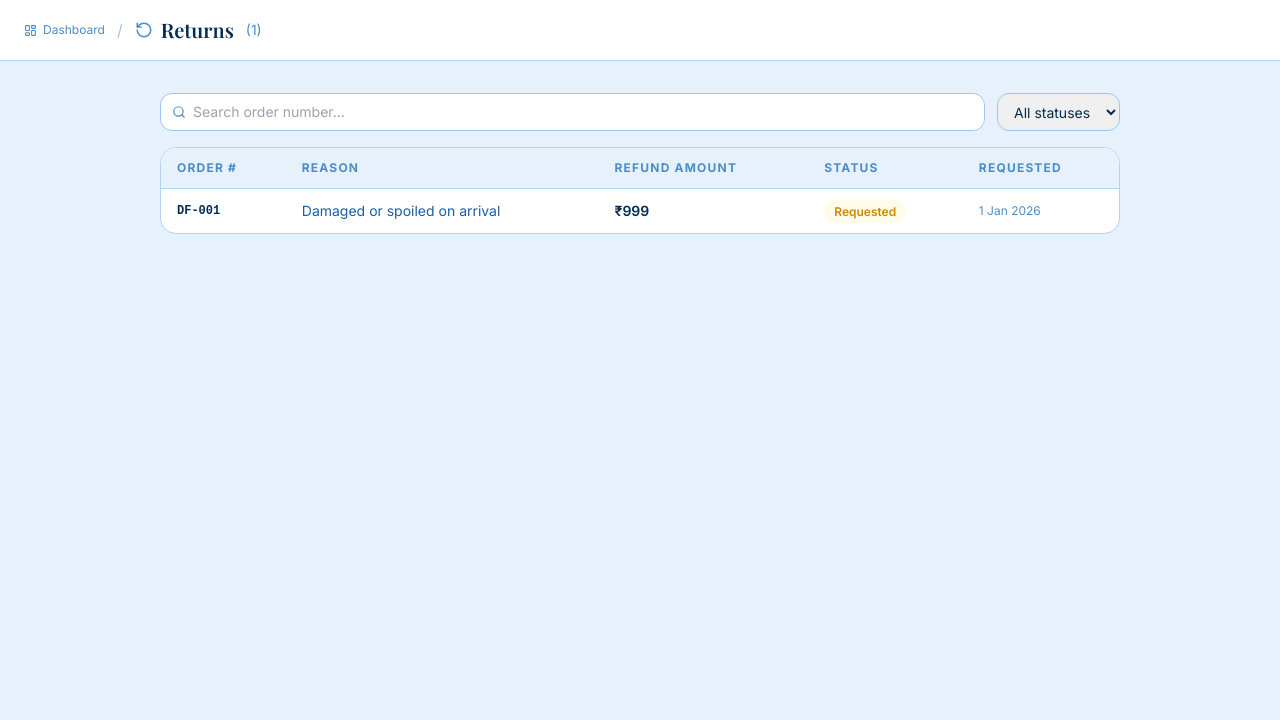
Scenario: AdminReturnsPage › disables the reject button until a note is entered
The width and height of the screenshot is (1280, 720).
Click the text "DF-001": (199, 211) [161,188,286,233]
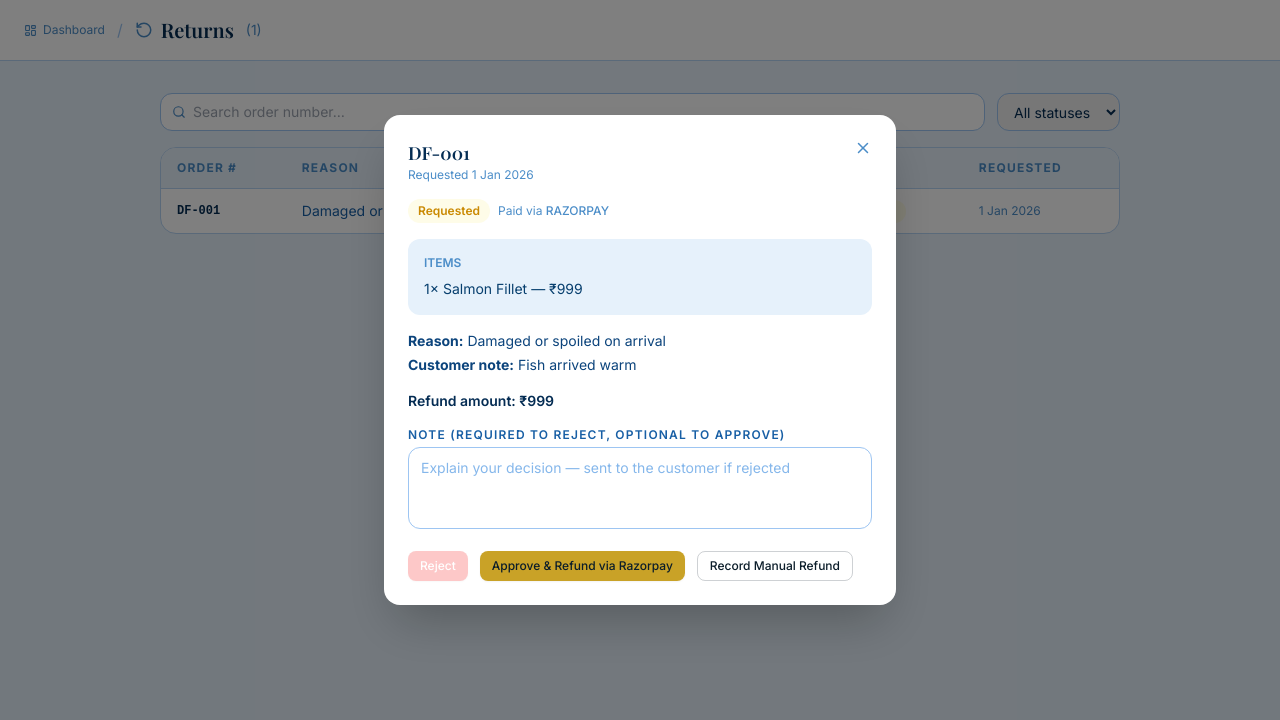
Expected: the button "Reject" is disabled, [408,551,468,581]
In the text box with placeholder "Explain your decision — sent to the customer if rejected": (640, 488) [408,447,872,529], type "Not eligible"
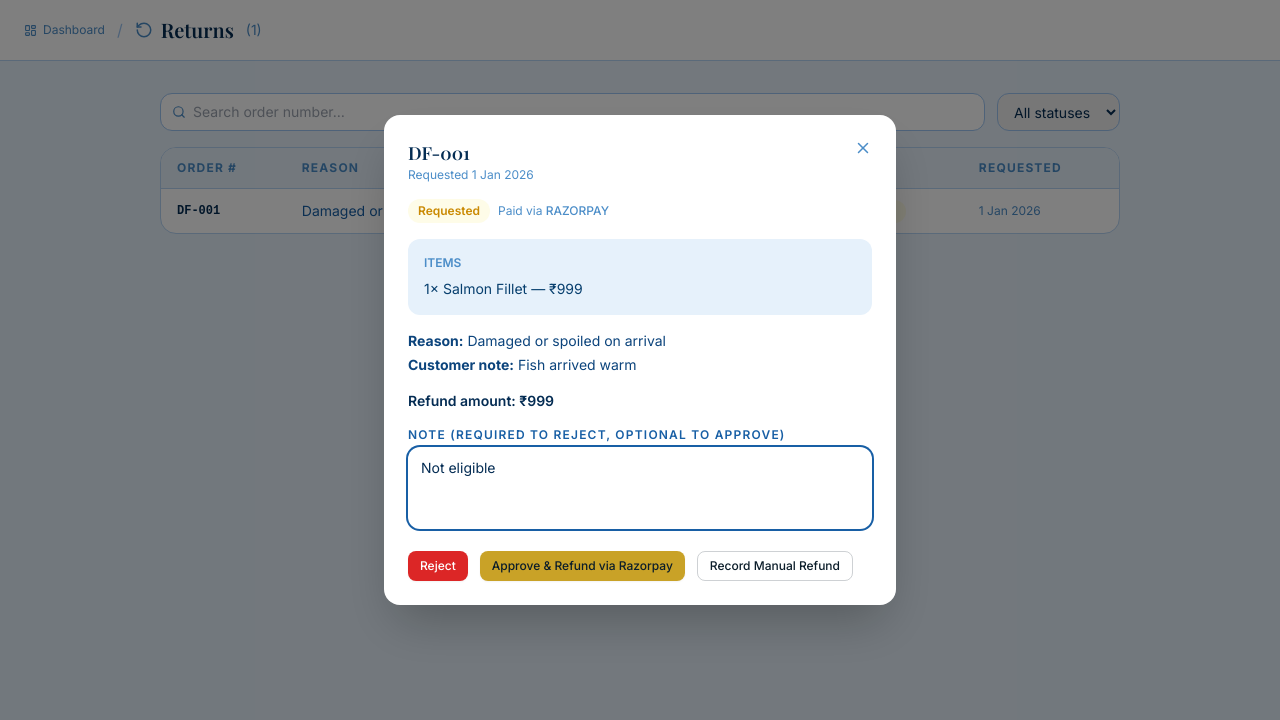
Expected: the button "Reject" is enabled, [408,551,468,581]
